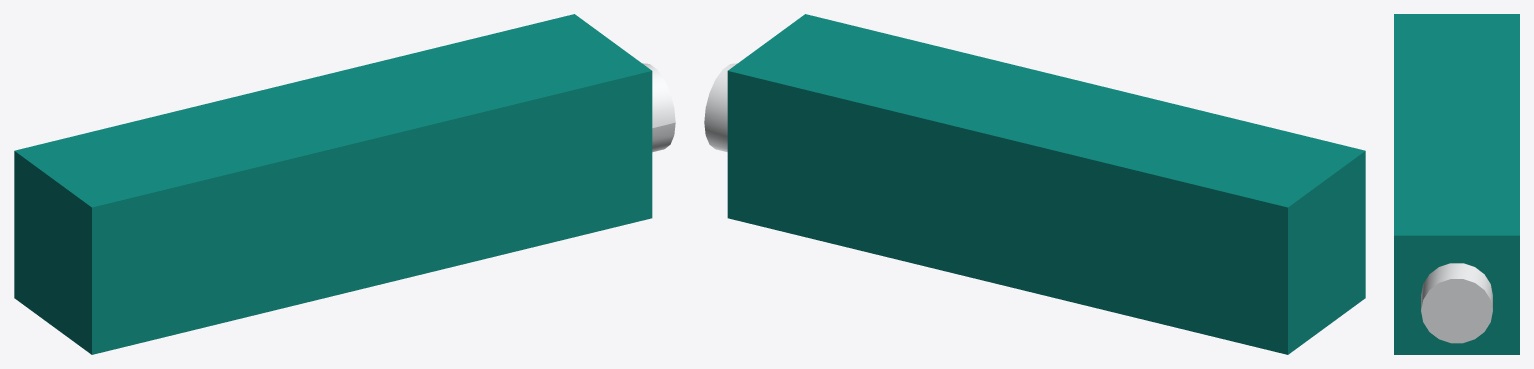
The model's file is toothpaste-box.glb.
3 views of the same model, side by side, from view 1: azimuth 30°, elevation 25°; view 2: azimuth 150°, elevation 25°; view 3: azimuth 270°, elevation 25° (orthographic). The views are drawn at different scales.
Parts seen in each view (by area): view 1: Paste_Box, Tube_Cap_Hint; view 2: Paste_Box, Tube_Cap_Hint; view 3: Paste_Box, Tube_Cap_Hint.
Part boxes in pixels (x1=…): Paste_Box: x1=14, y1=14, x2=652, y2=354; Tube_Cap_Hint: x1=642, y1=63, x2=675, y2=152; Paste_Box: x1=727, y1=14, x2=1365, y2=354; Tube_Cap_Hint: x1=704, y1=63, x2=737, y2=152; Paste_Box: x1=1394, y1=14, x2=1519, y2=354; Tube_Cap_Hint: x1=1421, y1=263, x2=1492, y2=343.
Size of the model in its own units: 0.1875 by 0.044 by 0.042.
